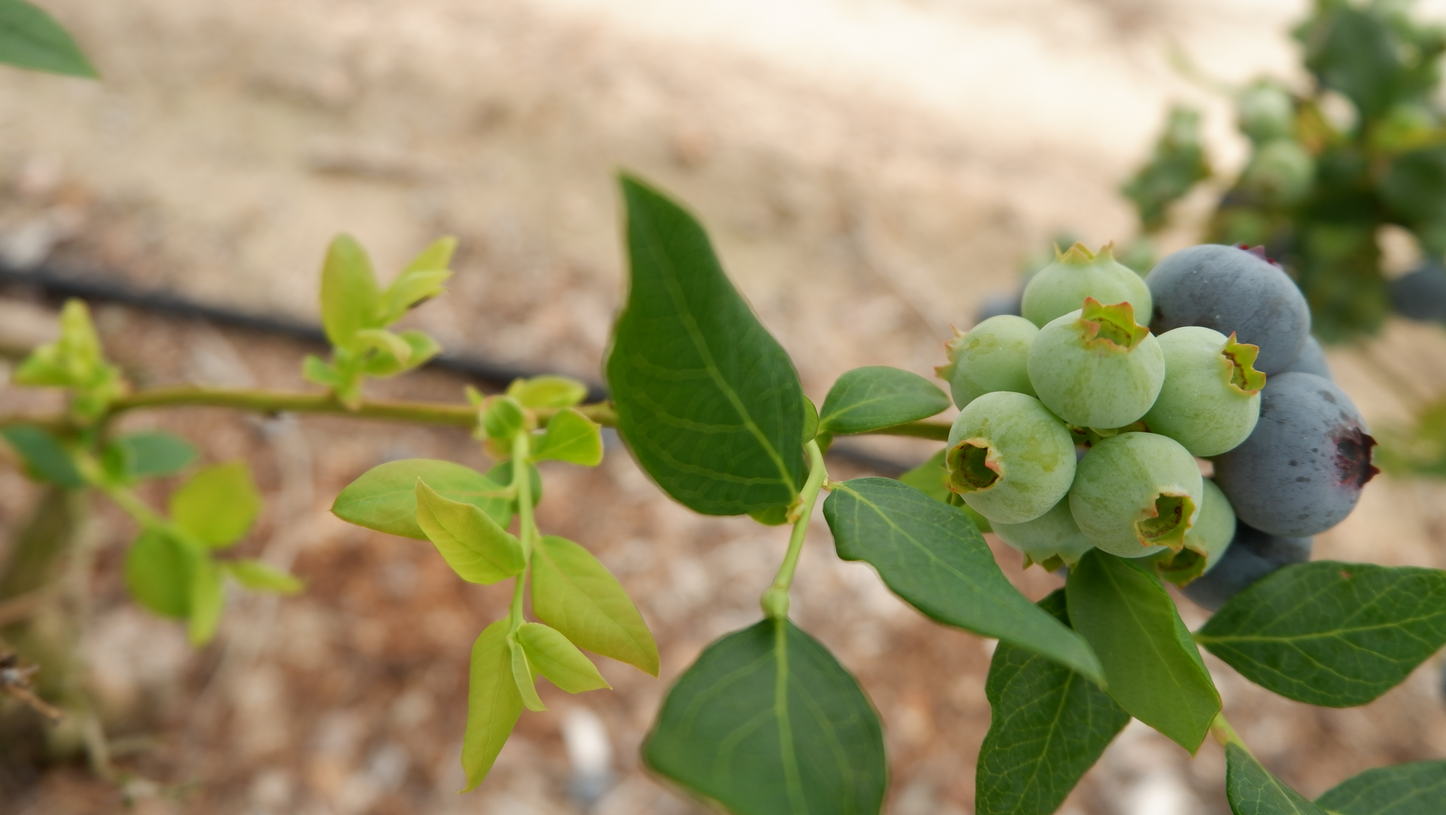Immature: (1027, 298, 1166, 429), (946, 391, 1079, 525), (1066, 431, 1204, 560), (1140, 326, 1267, 458), (1021, 238, 1153, 330), (1131, 476, 1237, 589), (929, 314, 1041, 413), (987, 491, 1095, 573)
Mature: (1211, 372, 1383, 536), (1143, 242, 1312, 376), (1177, 515, 1315, 612), (1266, 333, 1333, 382)
